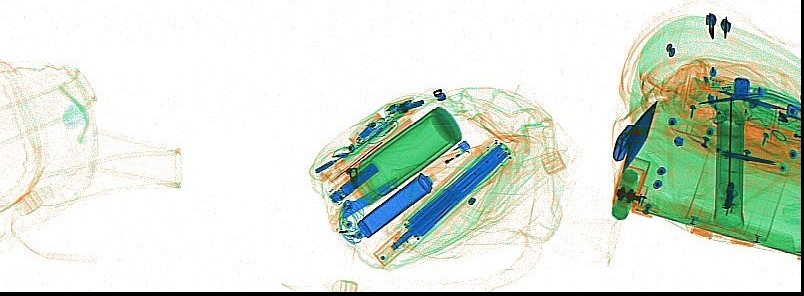knife: (328, 116, 411, 183), (692, 73, 789, 110), (329, 174, 399, 225), (611, 100, 657, 173), (719, 148, 776, 166)
lighter: (420, 139, 470, 179)
scissors: (693, 88, 765, 105)
zippooil: (356, 170, 434, 238)
